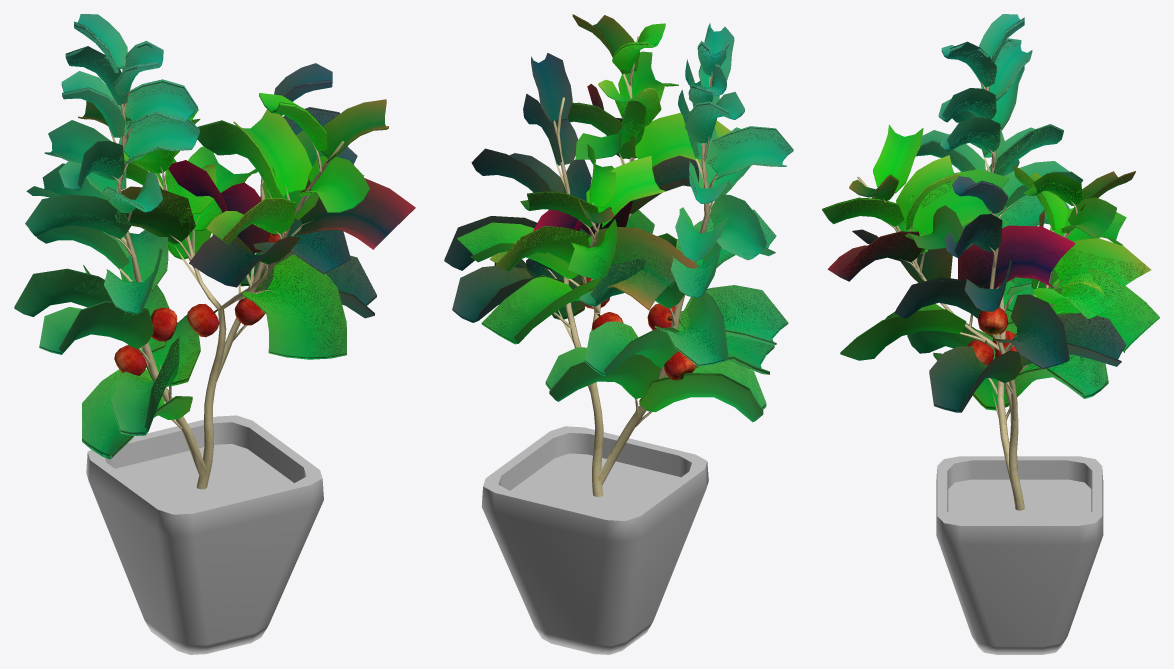
The model's file is plants with fruits.fbx.
3 views of the same model, side by side, from view 1: azimuth 30°, elevation 25°; view 2: azimuth 150°, elevation 25°; view 3: azimuth 270°, elevation 25° (orthographic). The views are drawn at different scales.
Visible parts, largest first — view 1: Tree_1, polySurface2, polySurface1, Tree_0, fruits:apple, apple3, apple2, apple; view 2: Tree_1, polySurface2, polySurface1, Tree_0, apple2, apple3; view 3: Tree_1, polySurface2, polySurface1, Tree_0, apple1.
Boxes of the visible parts, x1,y1,x2,y2 form: Tree_1: [14, 14, 415, 459]; polySurface2: [86, 415, 323, 654]; polySurface1: [115, 444, 293, 507]; Tree_0: [105, 84, 344, 489]; fruits:apple: [186, 304, 219, 337]; apple3: [150, 307, 177, 341]; apple2: [114, 345, 146, 375]; apple: [234, 292, 265, 325]; Tree_1: [444, 14, 793, 422]; polySurface2: [481, 426, 708, 654]; polySurface1: [510, 453, 680, 514]; Tree_0: [545, 36, 717, 496]; apple2: [664, 351, 695, 380]; apple3: [647, 303, 679, 330]; Tree_1: [822, 14, 1159, 412]; polySurface2: [936, 456, 1103, 654]; polySurface1: [948, 479, 1091, 521]; Tree_0: [857, 79, 1077, 510]; apple1: [978, 308, 1007, 334].
Size of the model in its own units: 52.47 by 101 by 54.3.
